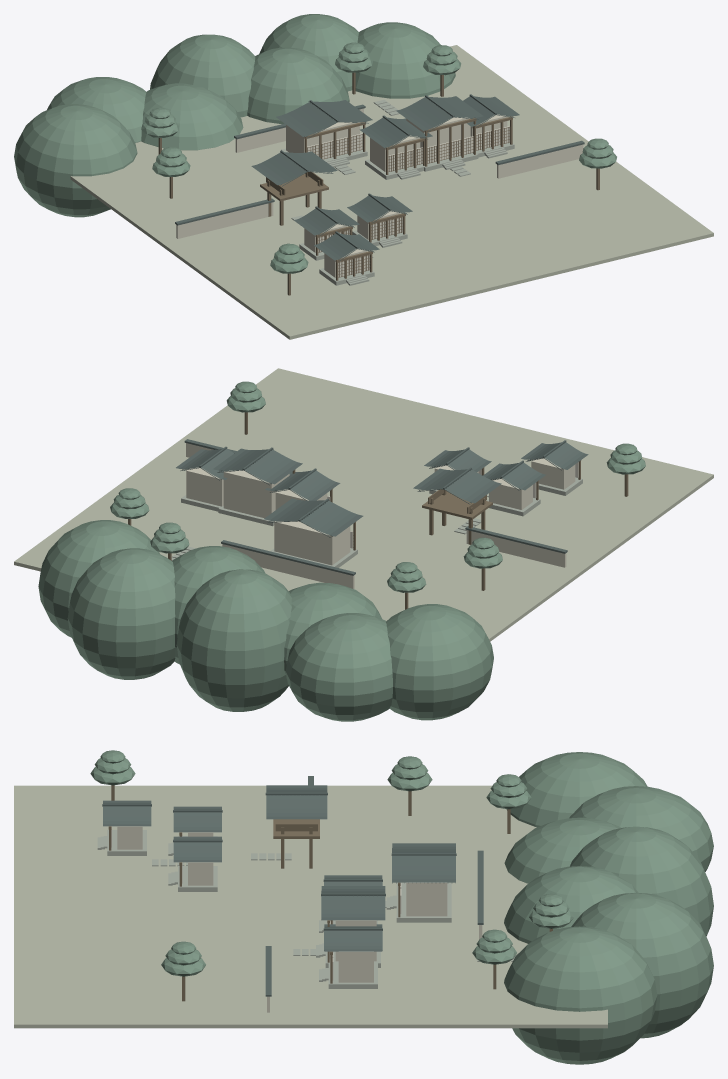
File: gongju-reference-v002.glb
3 renders of one model, top to bottom at view 1: azimuth 30°, elevation 25°; view 2: azimuth 150°, elevation 25°; view 3: azimuth 270°, elevation 25°, orthographic. The views are drawn at different scales.
Parts seen in each view (by area): view 1: Courtyard terrain, Distant receding foothill, Distant receding foothill.006, Distant receding foothill.004, Distant receding foothill.003, Distant receding foothill.002, Distant receding foothill.005, Distant receding foothill.001, Hyeyeuidang administration swept eaves, Guesthouse central hall swept eaves, Jegeumru pavilion roof, Courtyard boundary.002 (+11 smaller); view 2: Courtyard terrain, Distant receding foothill.003, Distant receding foothill.005, Distant receding foothill, Distant receding foothill.001, Distant receding foothill.006, Distant receding foothill.002, Distant receding foothill.004, Hyeyeuidang administration wall, Guesthouse central hall wall, Hyeyeuidang administration swept eaves, Guesthouse central hall swept eaves (+13 smaller); view 3: Courtyard terrain, Distant receding foothill.006, Distant receding foothill.005, Distant receding foothill.003, Distant receding foothill, Distant receding foothill.001, Distant receding foothill.004, Distant receding foothill.002, Hyeyeuidang administration swept eaves, Guesthouse central hall swept eaves, Jegeumru pavilion roof, Guesthouse east wing swept eaves (+20 smaller).
Boxes of the visible parts, bbox=[...] form: Courtyard terrain: bbox=[70, 45, 713, 339]; Distant receding foothill: bbox=[14, 104, 137, 217]; Distant receding foothill.006: bbox=[355, 22, 455, 98]; Distant receding foothill.004: bbox=[247, 47, 349, 123]; Distant receding foothill.003: bbox=[150, 34, 255, 117]; Distant receding foothill.002: bbox=[141, 83, 243, 150]; Distant receding foothill.005: bbox=[259, 14, 359, 91]; Distant receding foothill.001: bbox=[47, 77, 146, 142]; Hyeyeuidang administration swept eaves: bbox=[276, 100, 372, 136]; Guesthouse central hall swept eaves: bbox=[396, 96, 483, 130]; Jegeumru pavilion roof: bbox=[251, 151, 337, 185]; Courtyard boundary.002: bbox=[176, 202, 273, 238]; Courtyard terrain: bbox=[14, 368, 713, 641]; Distant receding foothill.003: bbox=[176, 569, 291, 711]; Distant receding foothill.005: bbox=[67, 548, 175, 679]; Distant receding foothill: bbox=[386, 604, 493, 720]; Distant receding foothill.001: bbox=[285, 613, 392, 721]; Distant receding foothill.006: bbox=[38, 520, 159, 637]; Distant receding foothill.002: bbox=[284, 582, 381, 678]; Distant receding foothill.004: bbox=[172, 546, 264, 664]; Hyeyeuidang administration wall: bbox=[274, 521, 350, 565]; Guesthouse central hall wall: bbox=[223, 470, 289, 518]; Hyeyeuidang administration swept eaves: bbox=[264, 498, 363, 536]; Guesthouse central hall swept eaves: bbox=[213, 448, 302, 484]; Courtyard terrain: bbox=[14, 785, 607, 1028]; Distant receding foothill.006: bbox=[504, 926, 657, 1064]; Distant receding foothill.005: bbox=[571, 892, 713, 1038]; Distant receding foothill.003: bbox=[570, 826, 713, 936]; Distant receding foothill: bbox=[506, 752, 647, 827]; Distant receding foothill.001: bbox=[569, 786, 713, 871]; Distant receding foothill.004: bbox=[504, 866, 638, 943]; Distant receding foothill.002: bbox=[504, 817, 620, 883]; Hyeyeuidang administration swept eaves: bbox=[392, 843, 455, 882]; Guesthouse central hall swept eaves: bbox=[321, 886, 385, 920]; Jegeumru pavilion roof: bbox=[266, 785, 327, 819]; Guesthouse east wing swept eaves: bbox=[324, 924, 382, 951].
Bounding box in the file's own units: 42 × 11.78 × 49.5.
